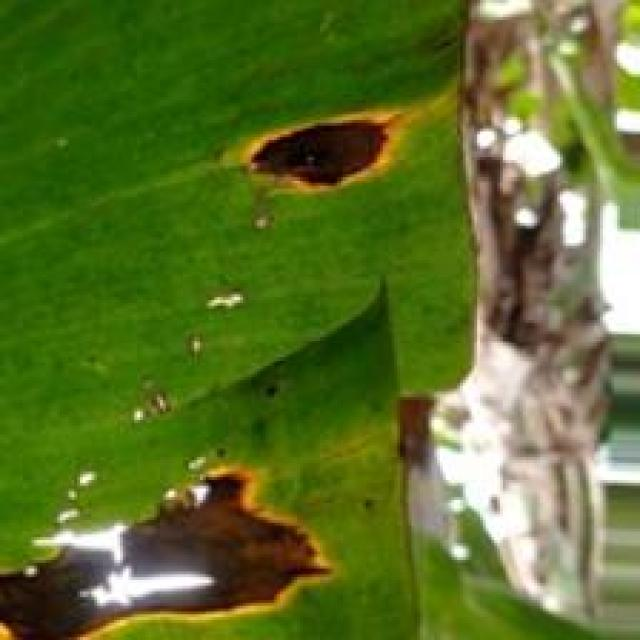Bacterial_spot: (0, 451, 354, 639), (224, 100, 439, 210), (184, 272, 272, 368), (390, 367, 443, 489), (43, 461, 109, 534), (131, 379, 188, 425)
